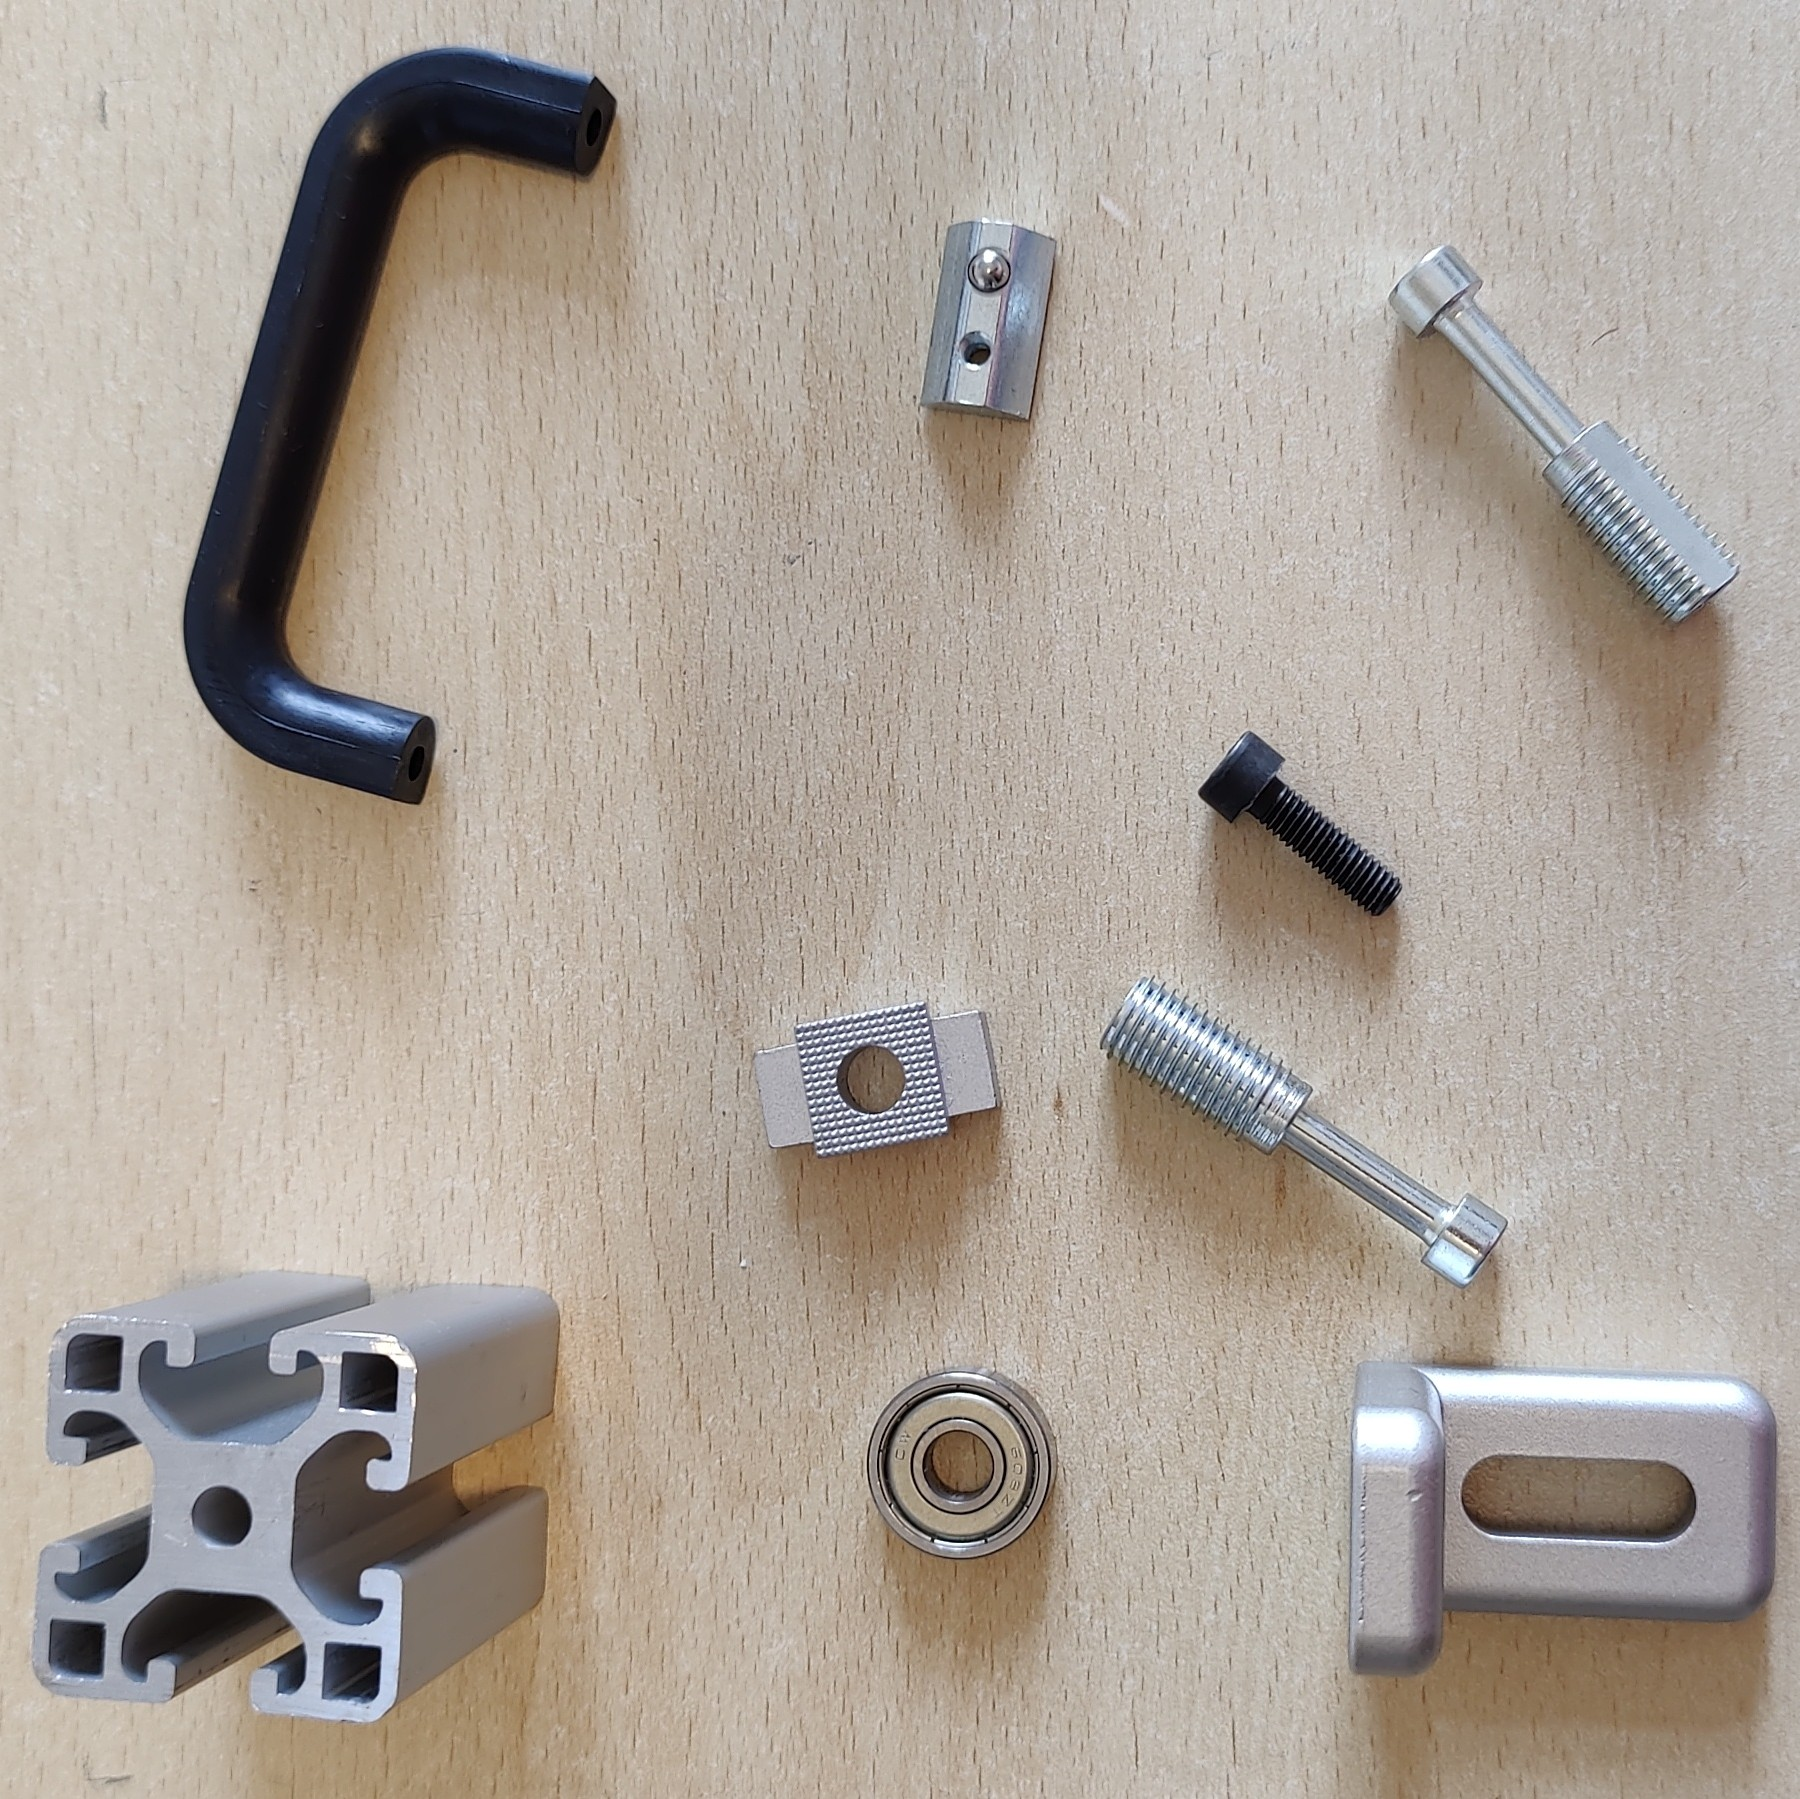Aluminium Extension: (31, 1269, 562, 1725)
Ball Bearing: (866, 1361, 1061, 1563)
Multiwinkel: (1342, 1357, 1782, 1680)
Pull Handle: (180, 41, 619, 807)
Shoulder Socket Head Cap Screw: (1383, 241, 1744, 629), (1097, 972, 1512, 1292)
Socket Head Cap Screw: (1192, 727, 1406, 923)
T Nut Square: (749, 1002, 1005, 1160)
T Spring Nut: (916, 216, 1059, 427)
